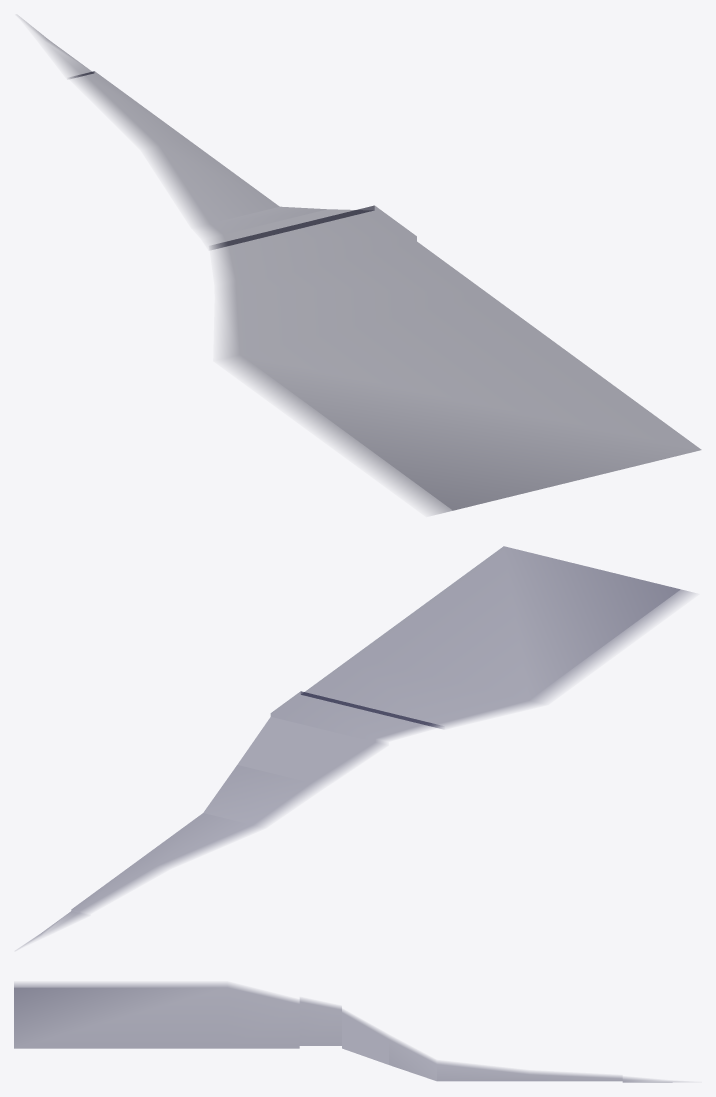
The picture shows the model from 3 angles, top to bottom: view 1: azimuth 30°, elevation 25°; view 2: azimuth 150°, elevation 25°; view 3: azimuth 270°, elevation 25°; orthographic projection. The views are drawn at different scales.
Visible parts, largest first — view 1: Joint_0_Object_0; view 2: Joint_0_Object_0; view 3: Joint_0_Object_0.
Part boxes in pixels (x1,y1,x2,y2): Joint_0_Object_0: (24, 20, 700, 513); Joint_0_Object_0: (22, 546, 691, 946); Joint_0_Object_0: (14, 984, 673, 1082).
Bounding box in the file's own units: 989 × 246 × 4207.
1 material, 1 textured.
